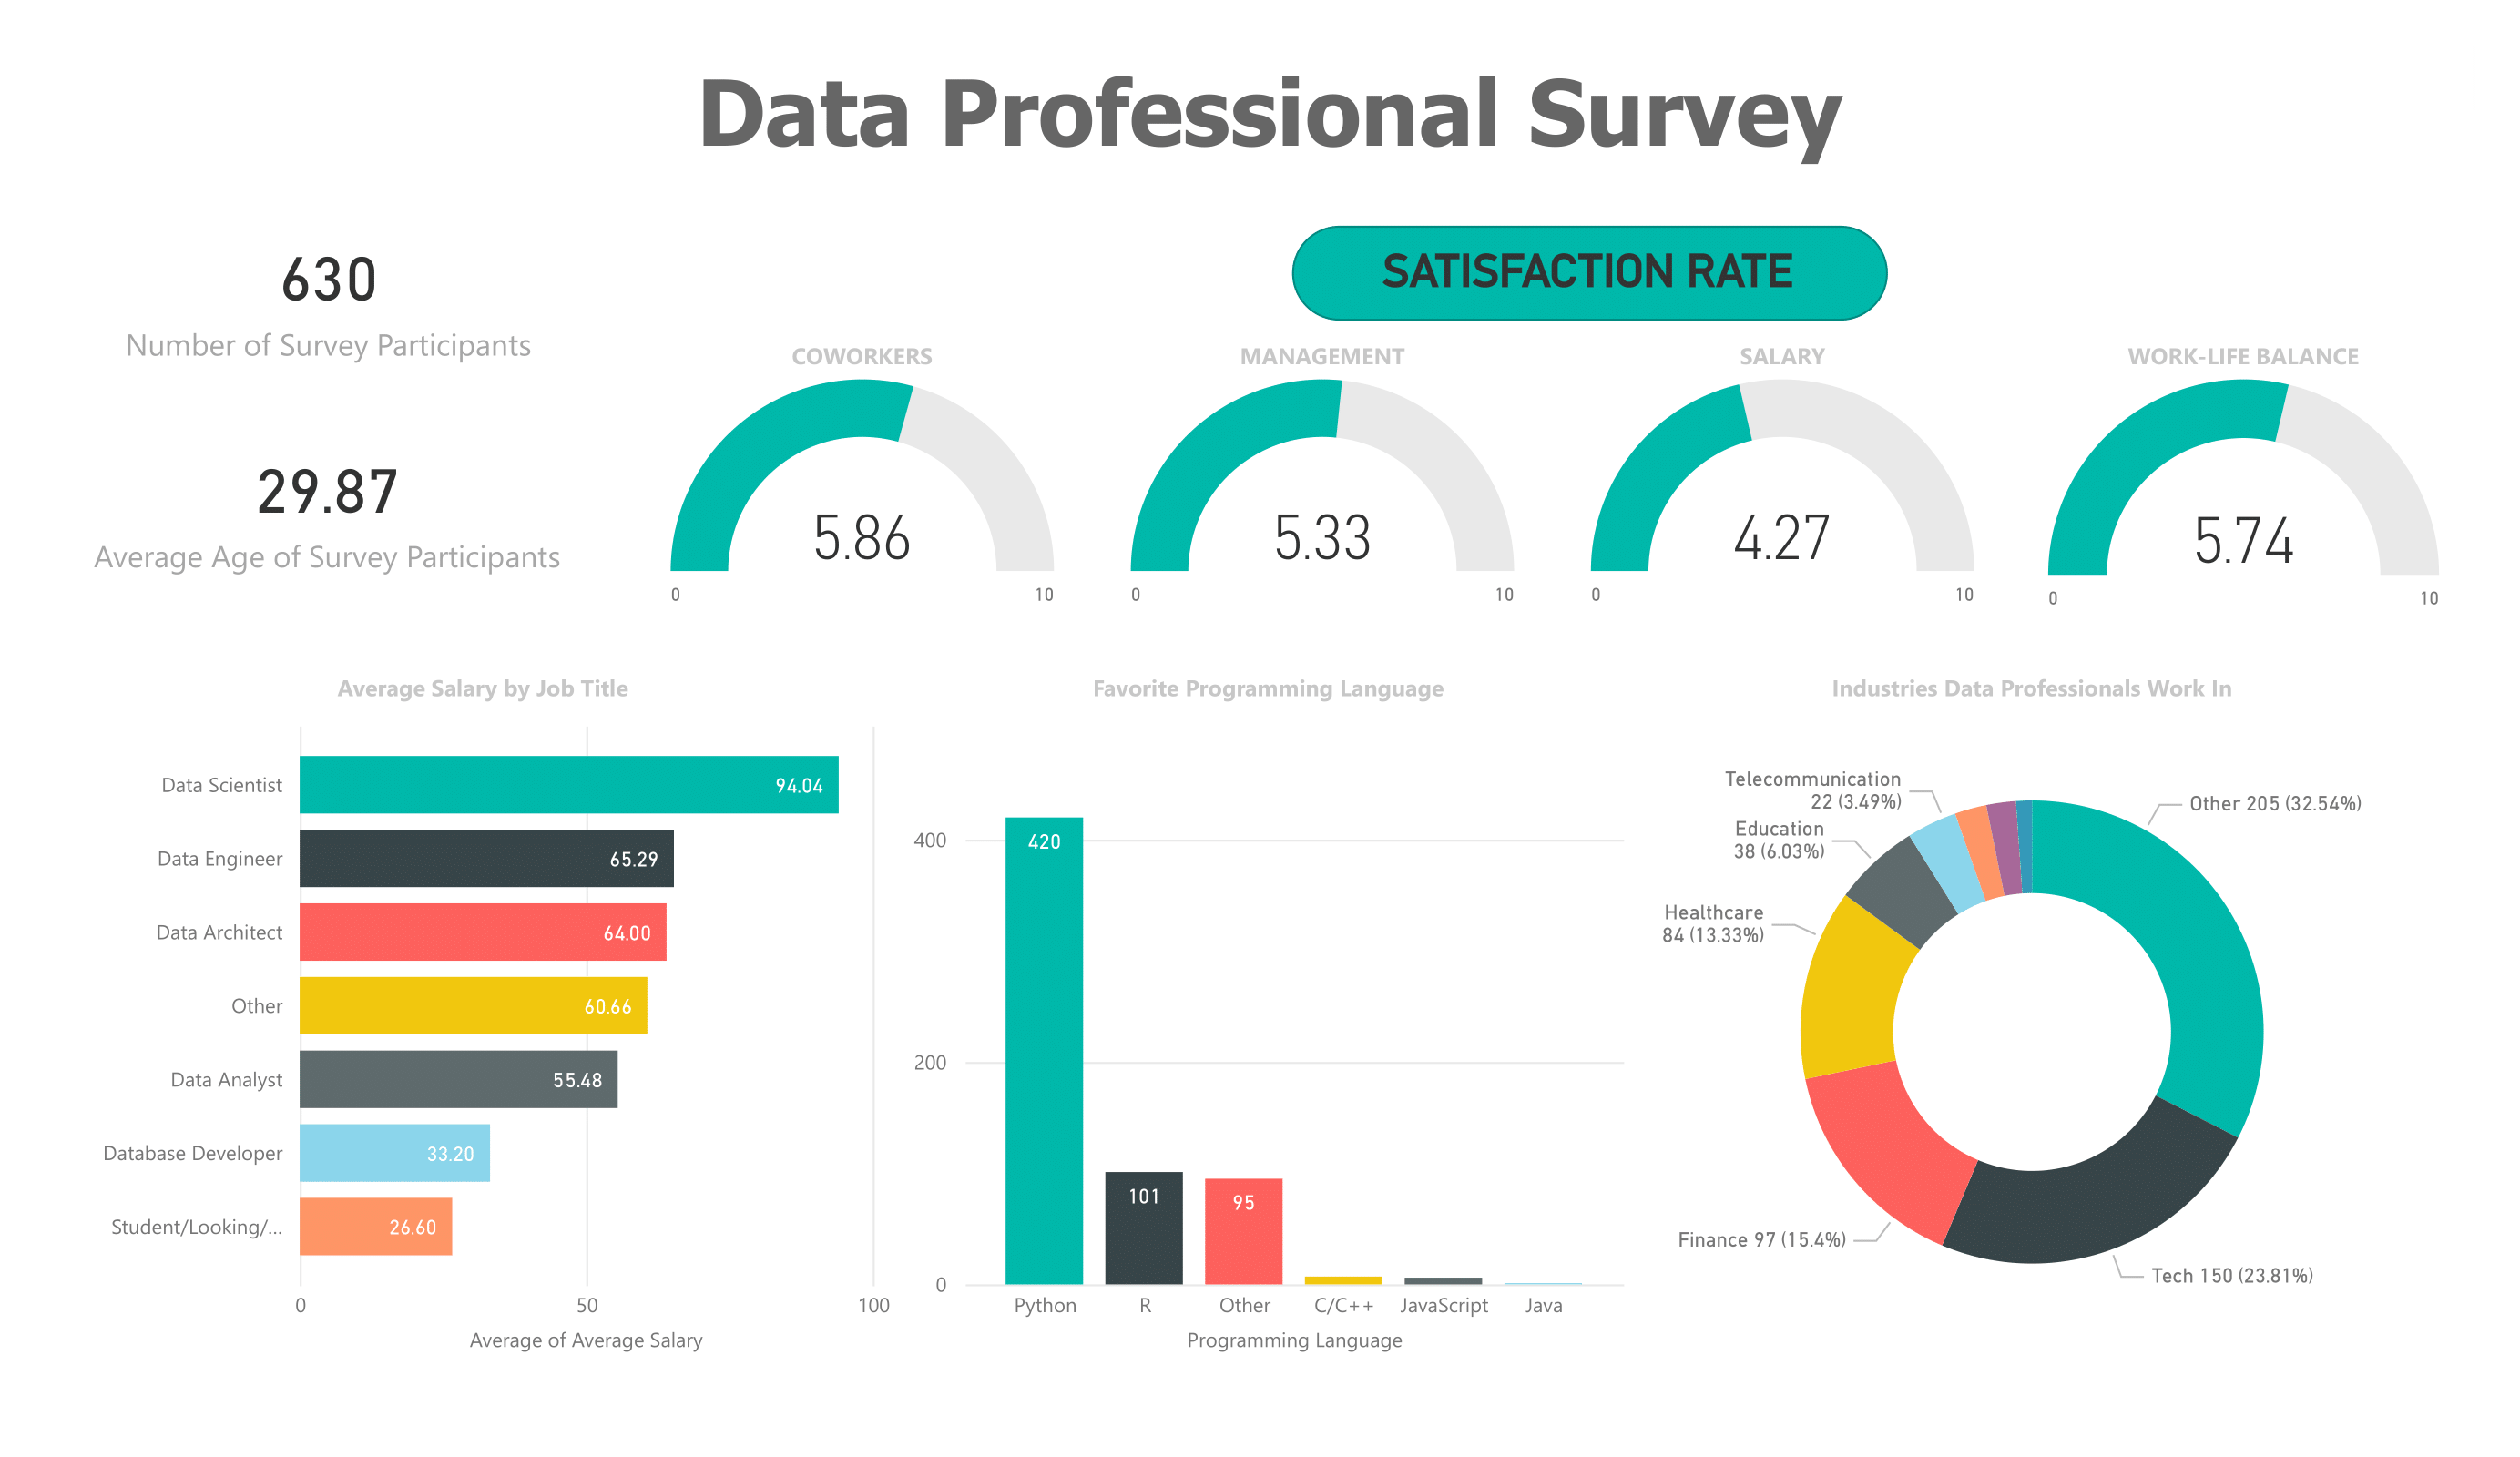

What the dashboard file says about the page in this screenshot:
{"tool":"powerbi","page":{"name":"Page 1","canvas":[1280,720],"ordinal":0},"visuals":[{"type":"textbox","box":[10.1,0,1269.9,73.9],"z":0},{"type":"card","fields":{"Values":["Count(Data Professional Survey - Cleaned.Unique ID)"]},"box":[0,80.3,298.1,101.8],"z":1000},{"type":"gauge","title":"COWORKERS","fields":{"Y":["Avg(Data Professional Survey - Cleaned.Q6 - How Happy are you in your Current Position with the following? (Coworkers))"],"MinValue":["Min(Data Professional Survey - Cleaned.Q6 - How Happy are you in your Current Position with the following? (Coworkers))"],"MaxValue":["Max(Data Professional Survey - Cleaned.Q6 - How Happy are you in your Current Position with the following? (Coworkers))"]},"box":[308.8,155.3,242.8,148.2],"z":2000},{"type":"gauge","title":"MANAGEMENT","fields":{"Y":["Avg(Data Professional Survey - Cleaned.Q6 - How Happy are you in your Current Position with the following? (Management))"],"MinValue":["Min(Data Professional Survey - Cleaned.Q6 - How Happy are you in your Current Position with the following? (Management))"],"MaxValue":["Max(Data Professional Survey - Cleaned.Q6 - How Happy are you in your Current Position with the following? (Management))"]},"box":[551.6,155.3,242.8,148.2],"z":3000},{"type":"gauge","title":"SALARY","fields":{"Y":["Avg(Data Professional Survey - Cleaned.Q6 - How Happy are you in your Current Position with the following? (Salary))"],"MinValue":["Min(Data Professional Survey - Cleaned.Q6 - How Happy are you in your Current Position with the following? (Salary))"],"MaxValue":["Max(Data Professional Survey - Cleaned.Q6 - How Happy are you in your Current Position with the following? (Salary))"]},"box":[794.4,155.3,242.8,148.2],"z":4000},{"type":"gauge","title":"WORK-LIFE BALANCE","fields":{"Y":["Avg(Data Professional Survey - Cleaned.Q6 - How Happy are you in your Current Position with the following? (Work/Life Ba"],"MinValue":["Min(Data Professional Survey - Cleaned.Q6 - How Happy are you in your Current Position with the following? (Work/Life Ba"],"MaxValue":["Max(Data Professional Survey - Cleaned.Q6 - How Happy are you in your Current Position with the following? (Work/Life Ba"]},"box":[1037.2,155.3,242.8,150],"z":5000},{"type":"shape","box":[657,94.6,314.2,50],"z":7000},{"type":"textbox","box":[656,100,314.2,55.3],"z":8000},{"type":"barChart","title":"Average Salary by Job Title","fields":{"Category":["Data Professional Survey - Cleaned.Q1 - Which Title Best Fits your Current Role?.1"],"Y":["Avg(Data Professional Survey - Cleaned.Average Salary)"],"Series":["Data Professional Survey - Cleaned.Q1 - Which Title Best Fits your Current Role?.1"]},"box":[10.7,330.3,439.2,364.2],"z":8001},{"type":"card","fields":{"Values":["Avg(Data Professional Survey - Cleaned.Q10 - Current Age)"]},"box":[10.7,182.1,274.9,121.4],"z":8002},{"type":"columnChart","title":"Favorite Programming Language","fields":{"Category":["Data Professional Survey - Cleaned.Q5 - Favorite Programming Language.1"],"Y":["CountNonNull(Data Professional Survey - Cleaned.Unique ID)"],"Series":["Data Professional Survey - Cleaned.Q5 - Favorite Programming Language.1"]},"box":[451.7,330.3,385.6,364.2],"z":8003},{"type":"donutChart","title":"Industries Data Professionals Work In","fields":{"Category":["Data Professional Survey - Cleaned.Q4 - What Industry do you work in?.1"],"Y":["CountNonNull(Data Professional Survey - Cleaned.Unique ID)"]},"box":[814.1,330.3,465.9,364.2],"z":8004}]}

Visuals, with their boxes on the page's 1280x720 design canvas (x1, y1, x2, y2). These are canvas units, not pixel positions in the 2520x1457 screenshot, which may show the page scaled, cropped or inside an application window:
textbox: 10,0,1280,74
card - Count(Data Professional Survey - Cleaned.Unique ID): 0,80,298,182
"COWORKERS" gauge: 309,155,552,304
"MANAGEMENT" gauge: 552,155,794,304
"SALARY" gauge: 794,155,1037,304
"WORK-LIFE BALANCE" gauge: 1037,155,1280,305
shape: 657,95,971,145
textbox: 656,100,970,155
"Average Salary by Job Title" barChart: 11,330,450,694
card - Avg(Data Professional Survey - Cleaned.Q10 - Current Age): 11,182,286,304
"Favorite Programming Language" columnChart: 452,330,837,694
"Industries Data Professionals Work In" donutChart: 814,330,1280,694
